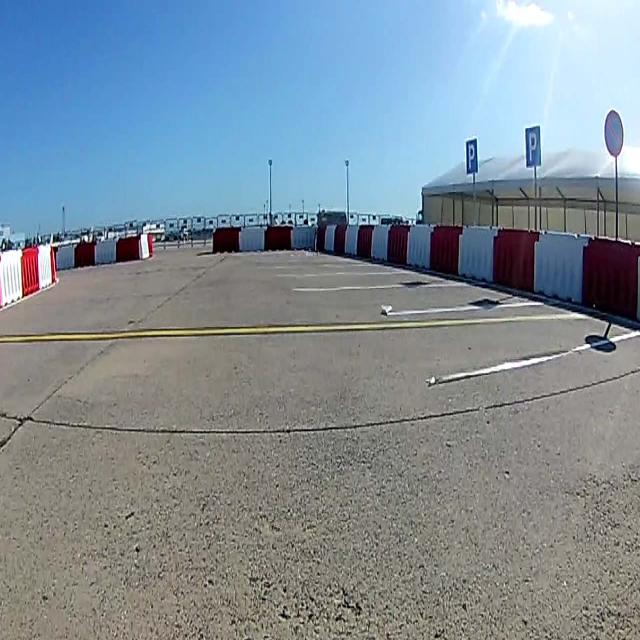park: (525, 126, 541, 168), (466, 137, 478, 175)
parkyasak: (605, 110, 623, 158)
